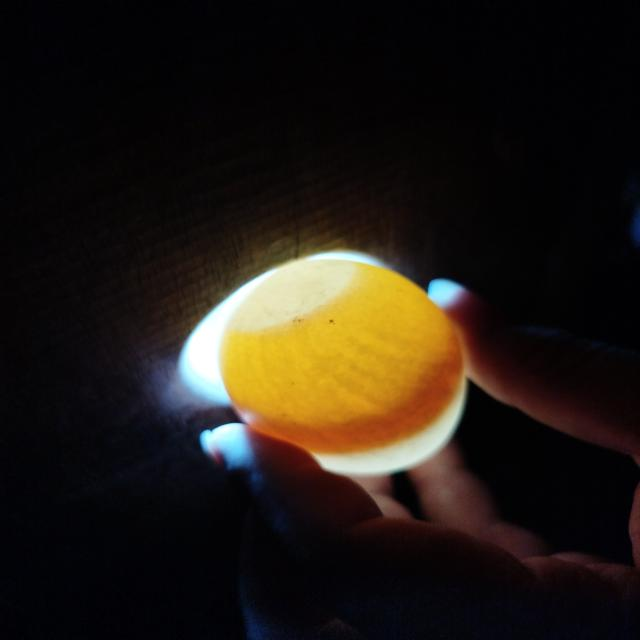Camara de Ar: (227, 262, 354, 330)
Gema Quebrada: (237, 326, 466, 455)
